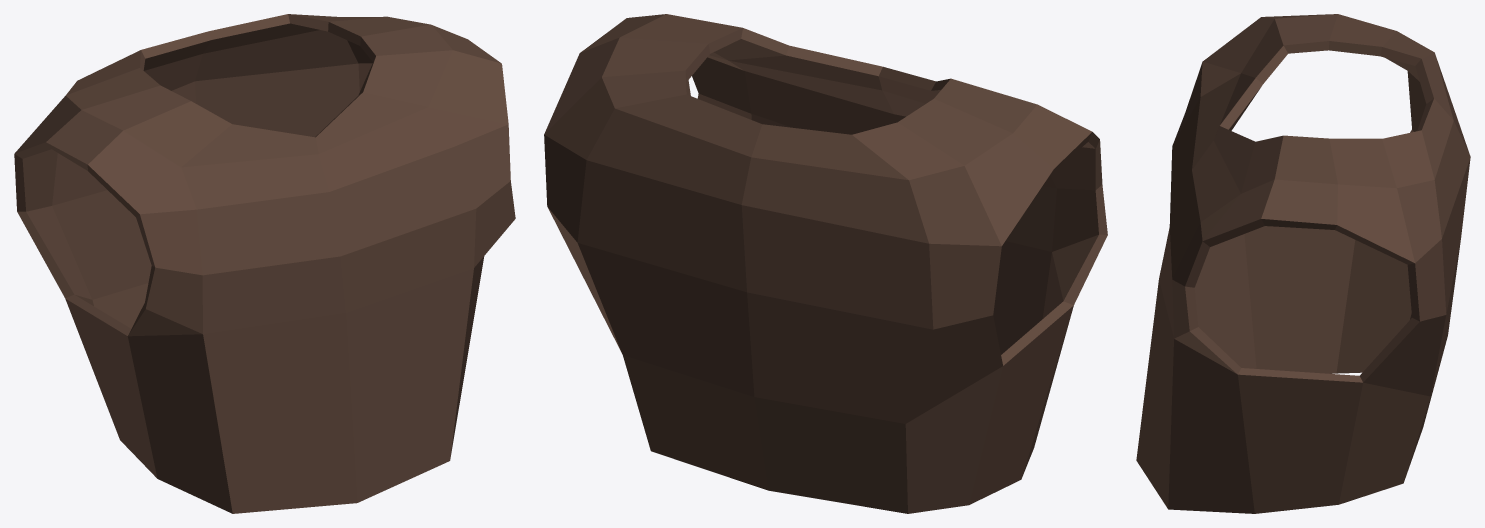
Rendered from piel.glb.
3 views of the same model, side by side, from view 1: azimuth 30°, elevation 25°; view 2: azimuth 150°, elevation 25°; view 3: azimuth 270°, elevation 25° (orthographic). The views are drawn at different scales.
Visible parts, largest first — view 1: Armor_Leather_Cylinder.048; view 2: Armor_Leather_Cylinder.048; view 3: Armor_Leather_Cylinder.048.
Part boxes in pixels (box(x1,y1,x2,y2)): Armor_Leather_Cylinder.048: box(14, 14, 515, 513); Armor_Leather_Cylinder.048: box(544, 14, 1107, 513); Armor_Leather_Cylinder.048: box(1136, 14, 1470, 513).
Size of the model in its own units: 0.9754 by 0.8216 by 0.6704.
